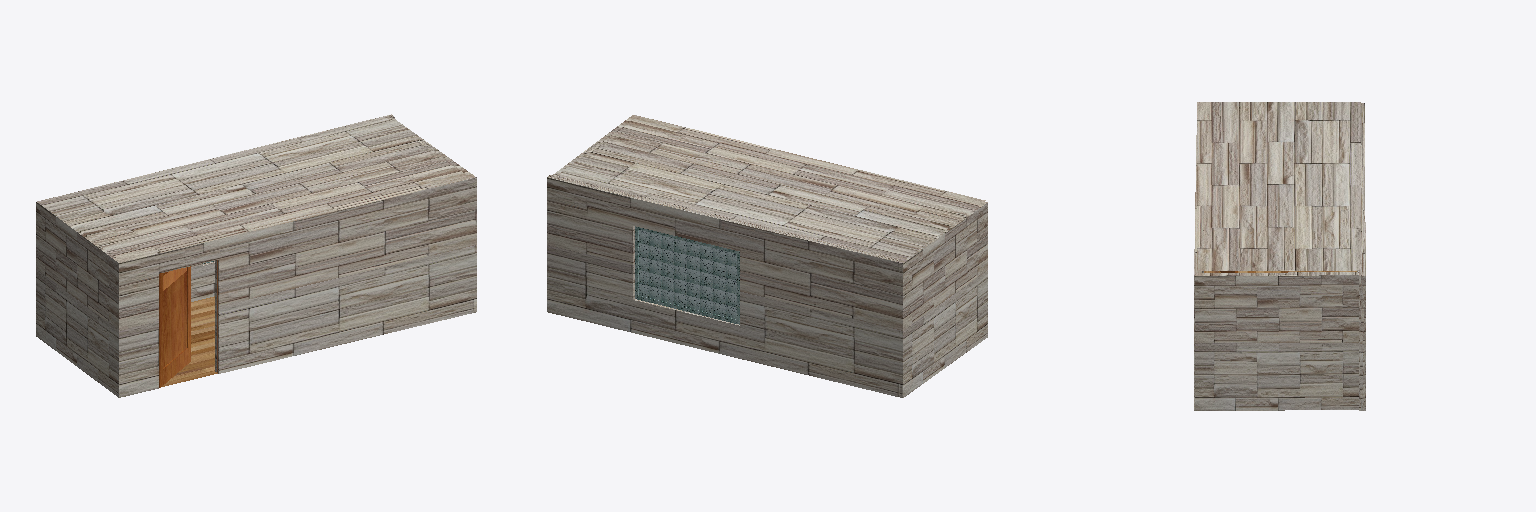
3 views of the same model, side by side, from view 1: azimuth 30°, elevation 25°; view 2: azimuth 150°, elevation 25°; view 3: azimuth 270°, elevation 25° (orthographic).
Visible parts, largest first — view 1: Wall002, Plane002, PivotDoor001, Plane001, Wall001; view 2: Wall001, Plane002, Wall002, PivotedWindow001; view 3: Plane002, Wall002, Wall001.
Part boxes in pixels (bbox=[...]): Wall002: bbox=[36, 118, 476, 397]; Plane002: bbox=[39, 116, 467, 260]; PivotDoor001: bbox=[159, 260, 217, 387]; Plane001: bbox=[162, 296, 217, 386]; Wall001: bbox=[41, 114, 394, 301]; Wall001: bbox=[547, 175, 899, 396]; Plane002: bbox=[557, 116, 985, 259]; Wall002: bbox=[553, 115, 987, 397]; PivotedWindow001: bbox=[635, 226, 739, 324]; Plane002: bbox=[1197, 102, 1360, 270]; Wall002: bbox=[1194, 103, 1364, 410]; Wall001: bbox=[1357, 104, 1365, 410].
Size of the model in its own units: 277 by 101 by 116.
4 materials, 4 textured.